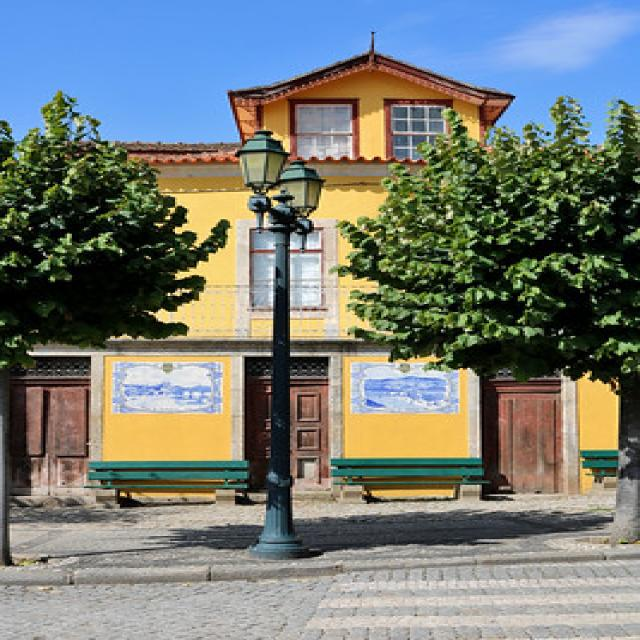building: (12, 50, 587, 508)
